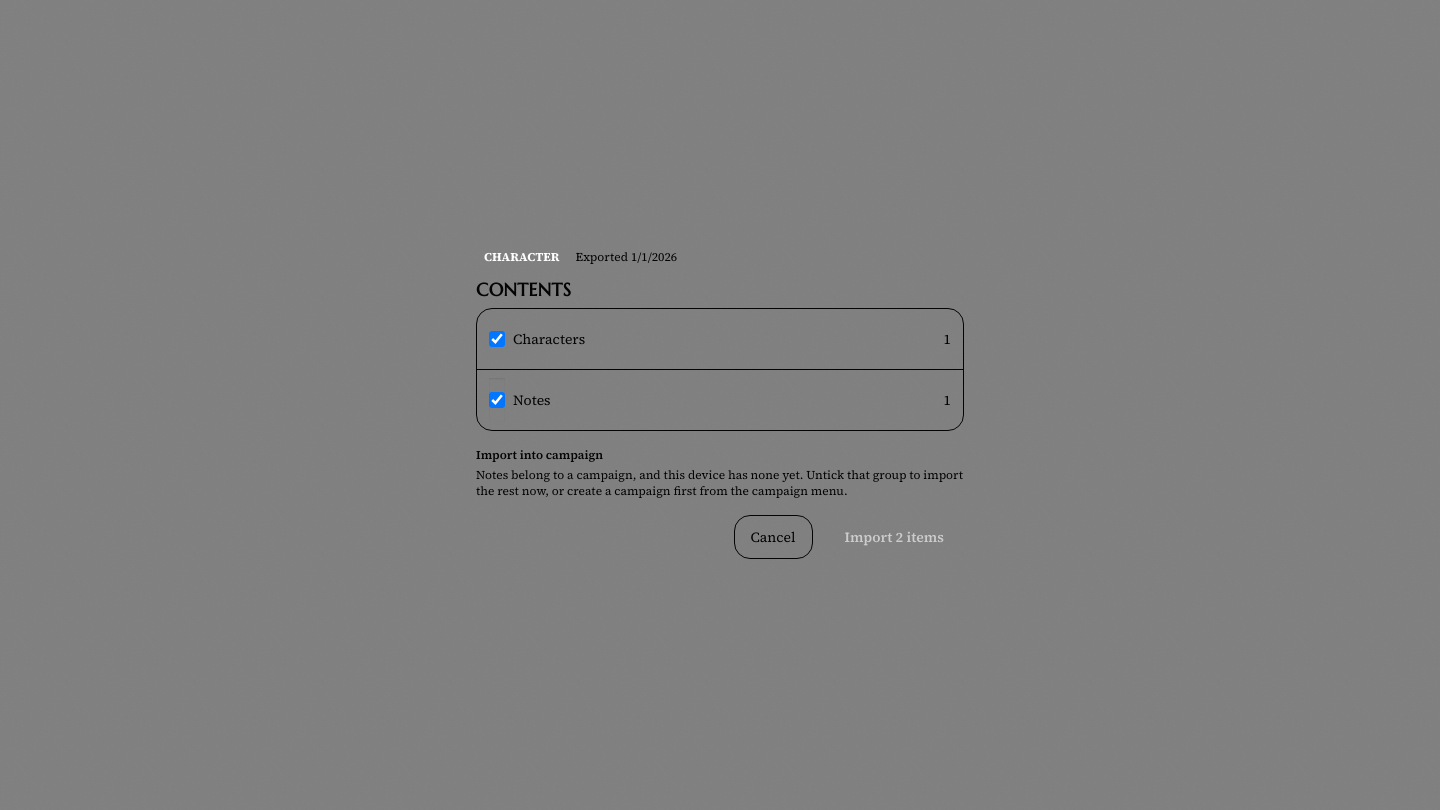
Test: ImportPreview on a device with no campaigns › unblocks the character once its homeless notes are unticked
Expected: the button "Import 2 items" is disabled, [824,515,964,559]
Click the 2nd checkbox. click: coordinates (497, 400)
box: [489,378,505,422]
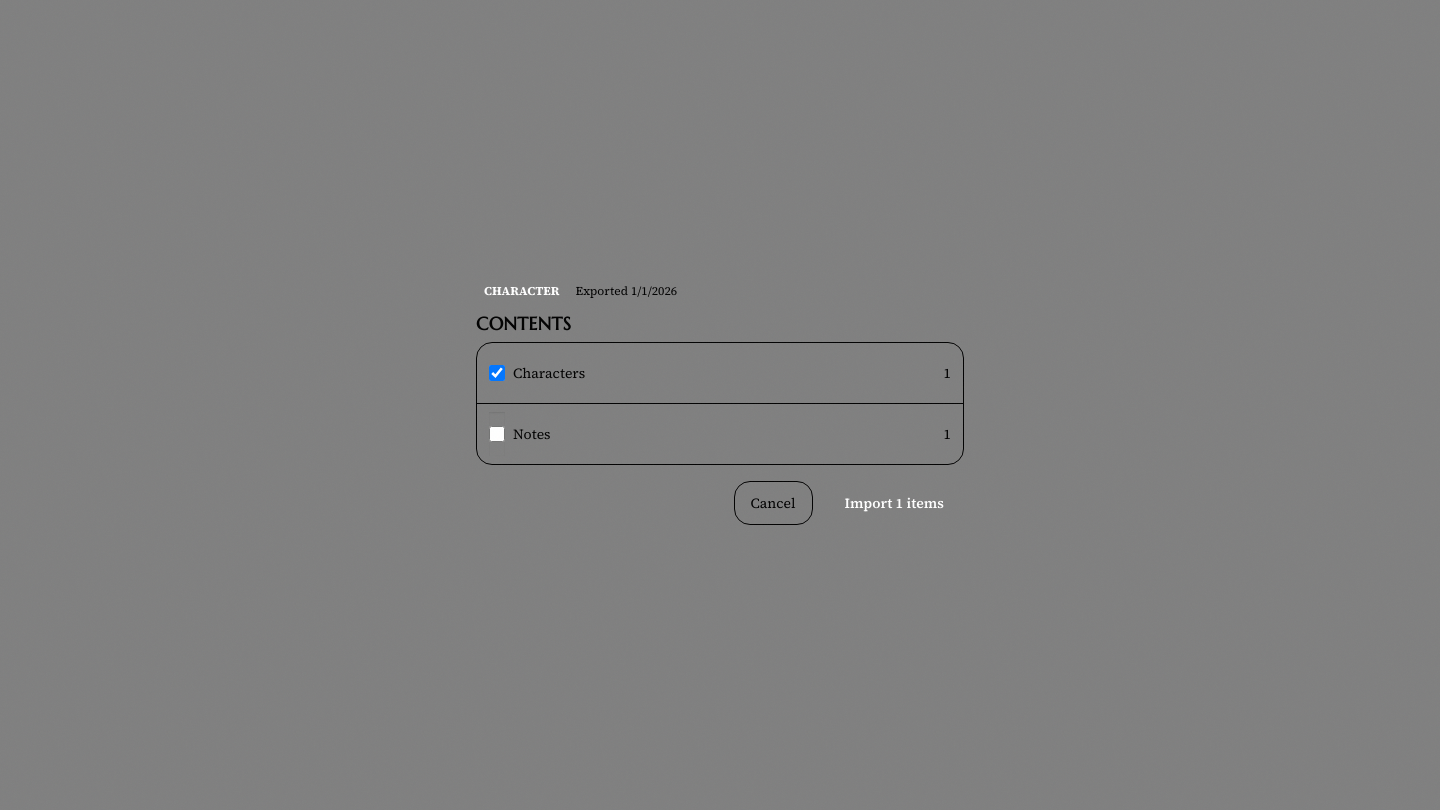
Now the button "Import 1 items" is enabled, box [824,481,964,525]
Now the text with test id "import-no-campaigns" is gone
